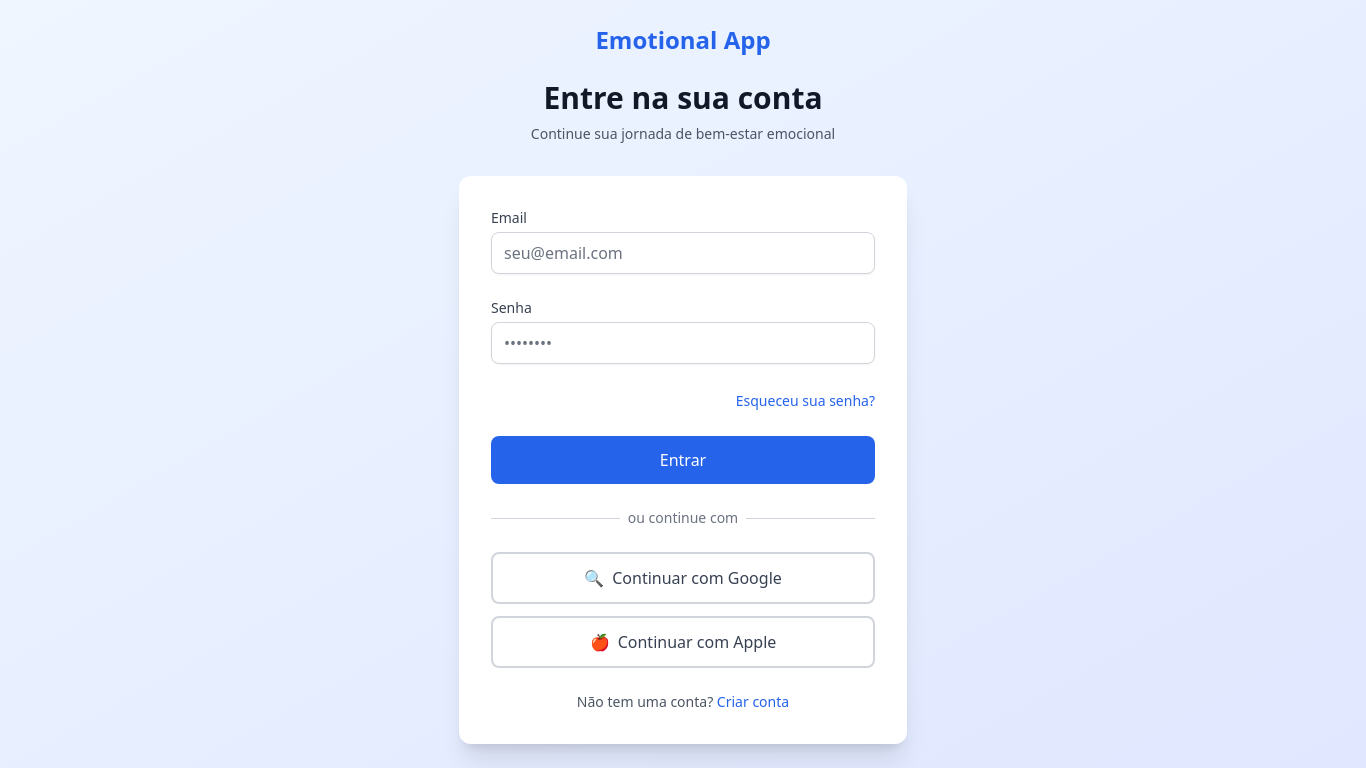
Test: LoginPage — Apple Sign-In (KAN-16/KAN-76) › backend rejects the token: shows the error, does not navigate
The width and height of the screenshot is (1366, 768).
Click the text "Continuar com Apple": (697, 642) [618,630,776,654]
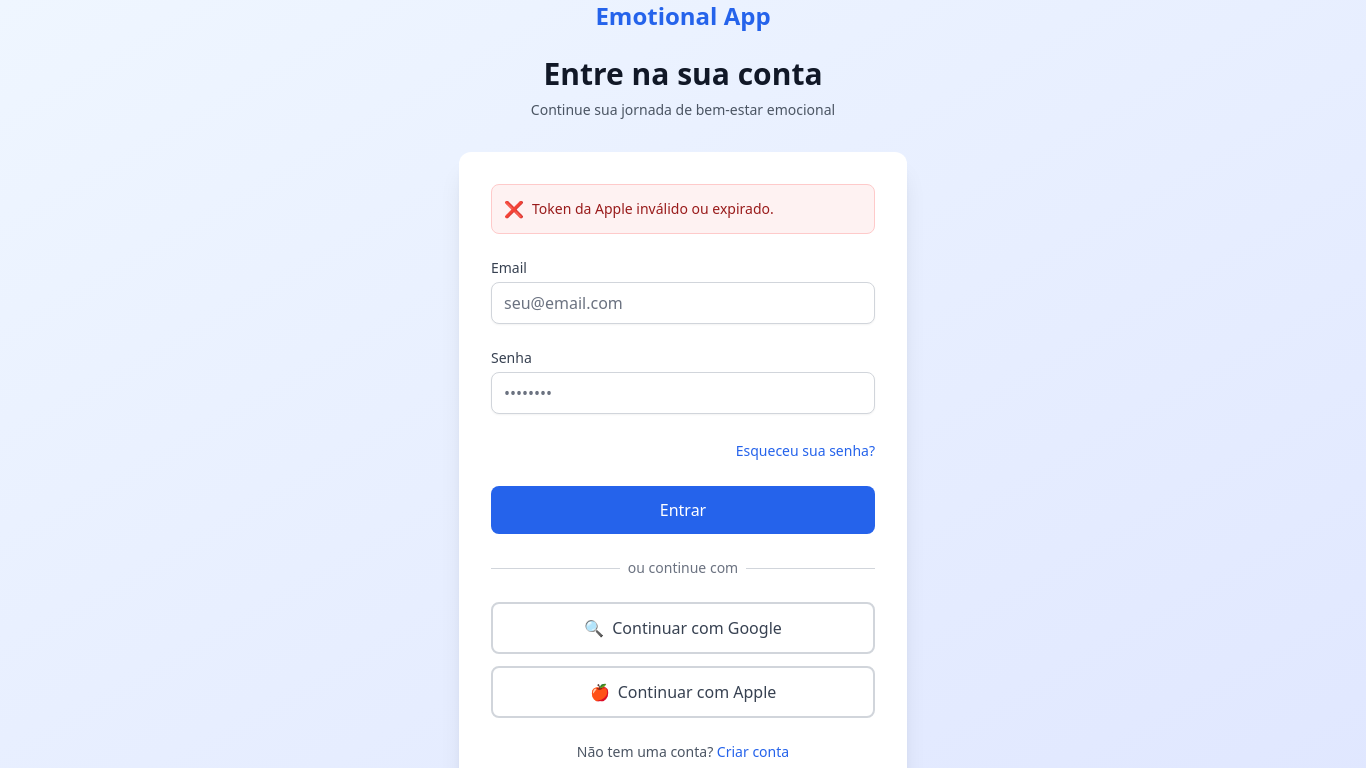
Expected: the text "Token da Apple inválido ou expirado." is shown, [532,199,774,219]
